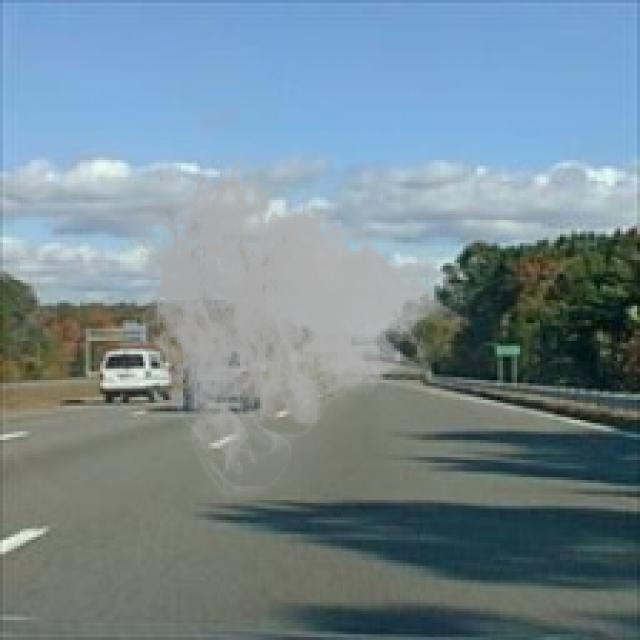Smoke: (117, 145, 469, 506)
